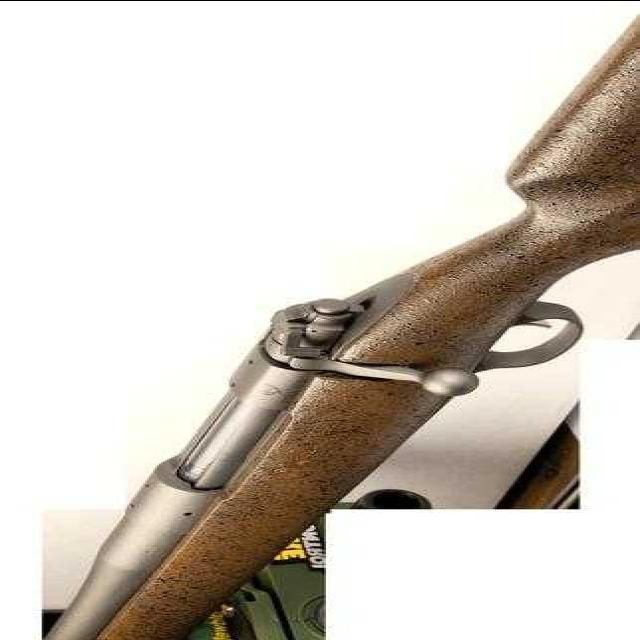heavyweapon: (9, 26, 640, 631)
